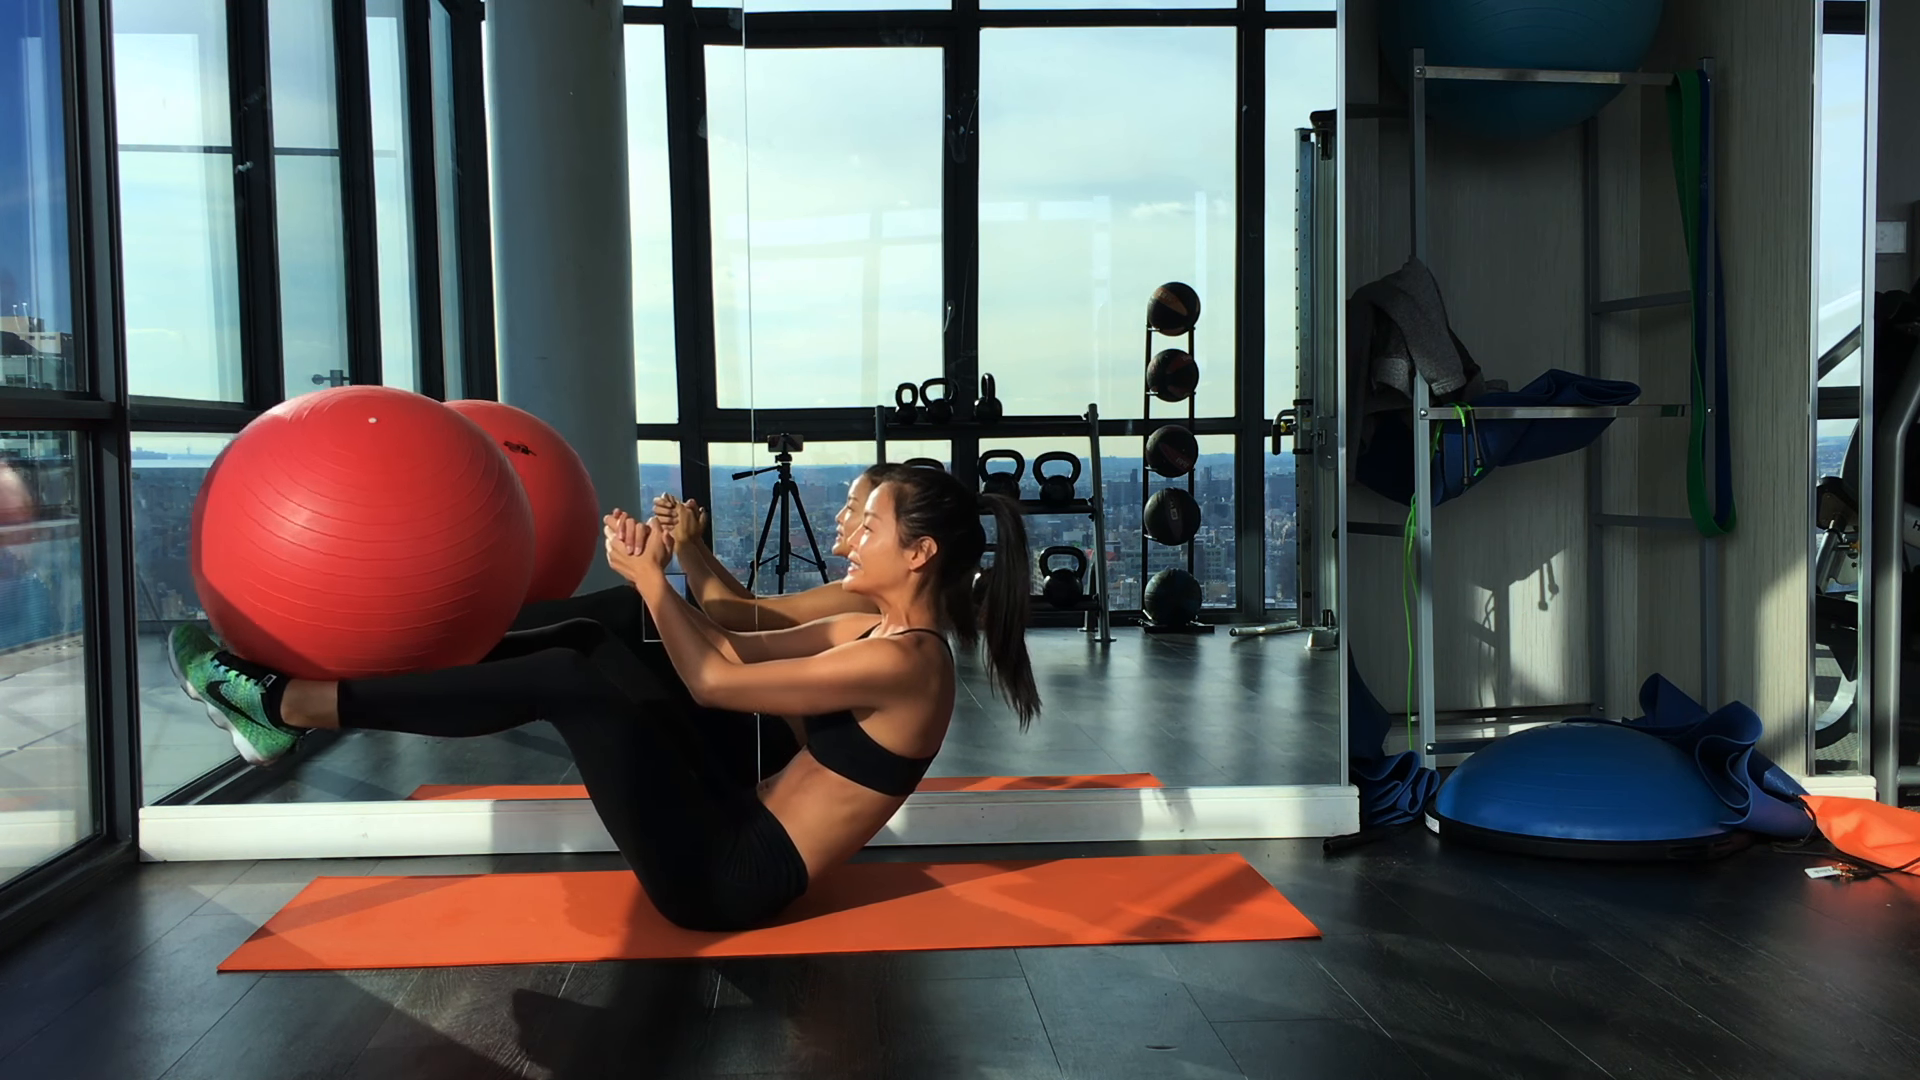yogaball: (178, 371, 543, 698)
